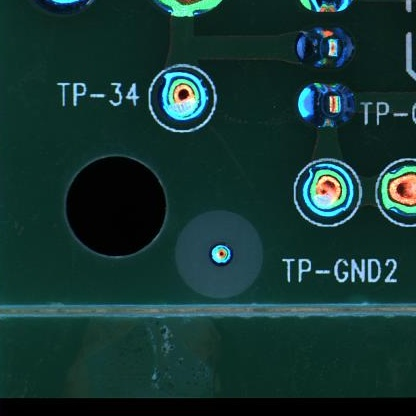spot: (296, 81, 359, 130), (303, 163, 355, 221), (296, 25, 357, 73), (156, 70, 210, 122), (381, 164, 416, 220)
